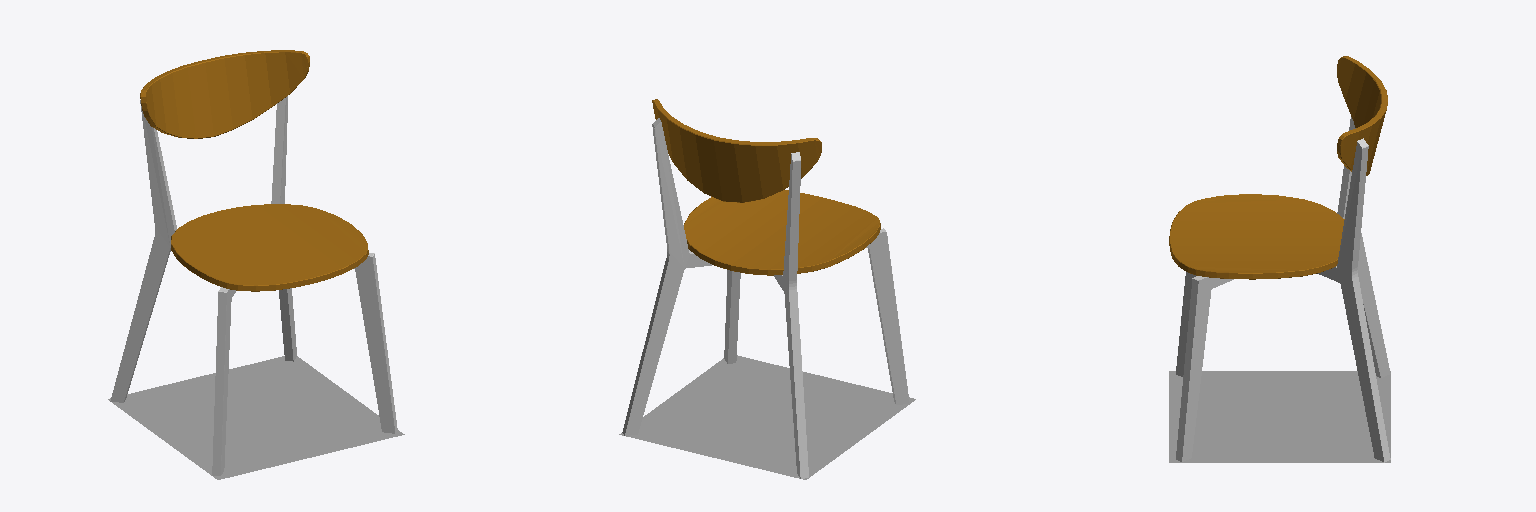
The model's file is Silla.obj.
3 views of the same model, side by side, from view 1: azimuth 30°, elevation 25°; view 2: azimuth 150°, elevation 25°; view 3: azimuth 270°, elevation 25° (orthographic).
Visible parts, largest first — view 1: ground_1, Seat_2, Feet_4, Back_3; view 2: ground_1, Seat_2, Feet_4, Back_3, Feet_58_5; view 3: ground_1, Seat_2, Feet_4, Back_3, Feet_58_5.
Boxes of the visible parts, x1=… form: ground_1: x1=108, y1=356, x2=404, y2=479; Seat_2: x1=171, y1=204, x2=368, y2=291; Feet_4: x1=110, y1=96, x2=397, y2=475; Back_3: x1=140, y1=50, x2=309, y2=138; ground_1: x1=619, y1=355, x2=915, y2=479; Seat_2: x1=684, y1=190, x2=880, y2=275; Feet_4: x1=625, y1=118, x2=909, y2=478; Back_3: x1=652, y1=99, x2=821, y2=202; Feet_58_5: x1=622, y1=125, x2=808, y2=478; ground_1: x1=1169, y1=371, x2=1390, y2=462; Seat_2: x1=1169, y1=194, x2=1344, y2=279; Feet_4: x1=1176, y1=117, x2=1390, y2=461; Back_3: x1=1337, y1=56, x2=1387, y2=175; Feet_58_5: x1=1352, y1=146, x2=1390, y2=462.
Size of the model in its own units: 48.6 by 80 by 49.9.